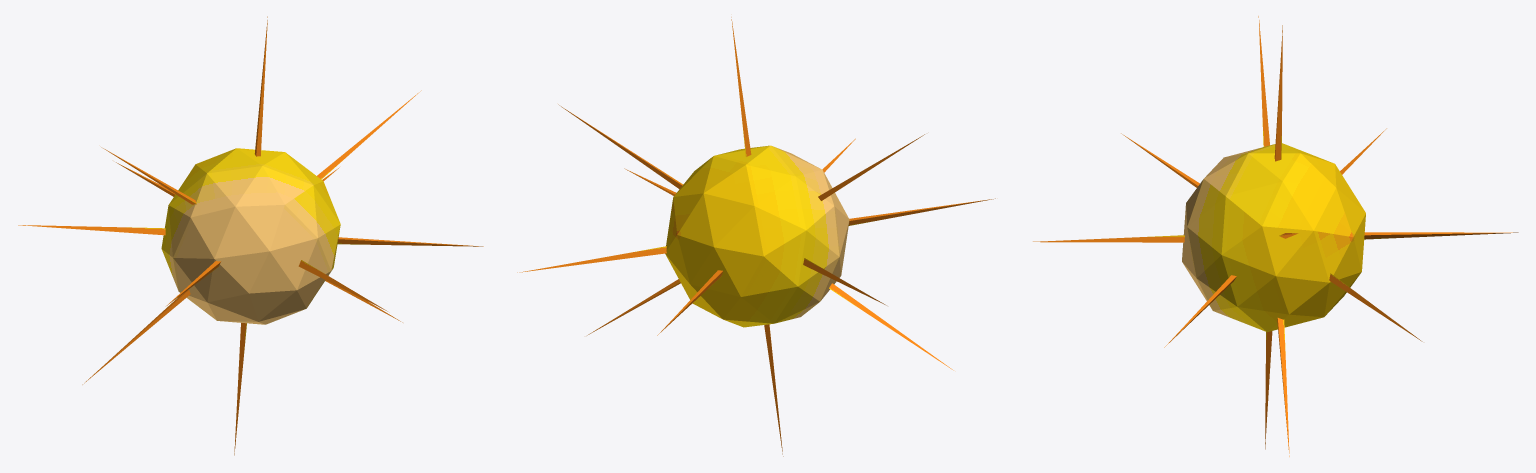
File: explosion.glb
3 views of the same model, side by side, from view 1: azimuth 30°, elevation 25°; view 2: azimuth 150°, elevation 25°; view 3: azimuth 270°, elevation 25° (orthographic). The views are drawn at different scales.
Visible parts, largest first — view 1: expl; view 2: expl; view 3: expl.
Boxes of the visible parts, bbox=[...] form: expl: bbox=[18, 16, 483, 455]; expl: bbox=[517, 17, 995, 456]; expl: bbox=[1033, 16, 1518, 456].
Bounding box in the file's own units: 1.03 × 1.15 × 1.15.
Materials: 1 (1 with a texture image).
